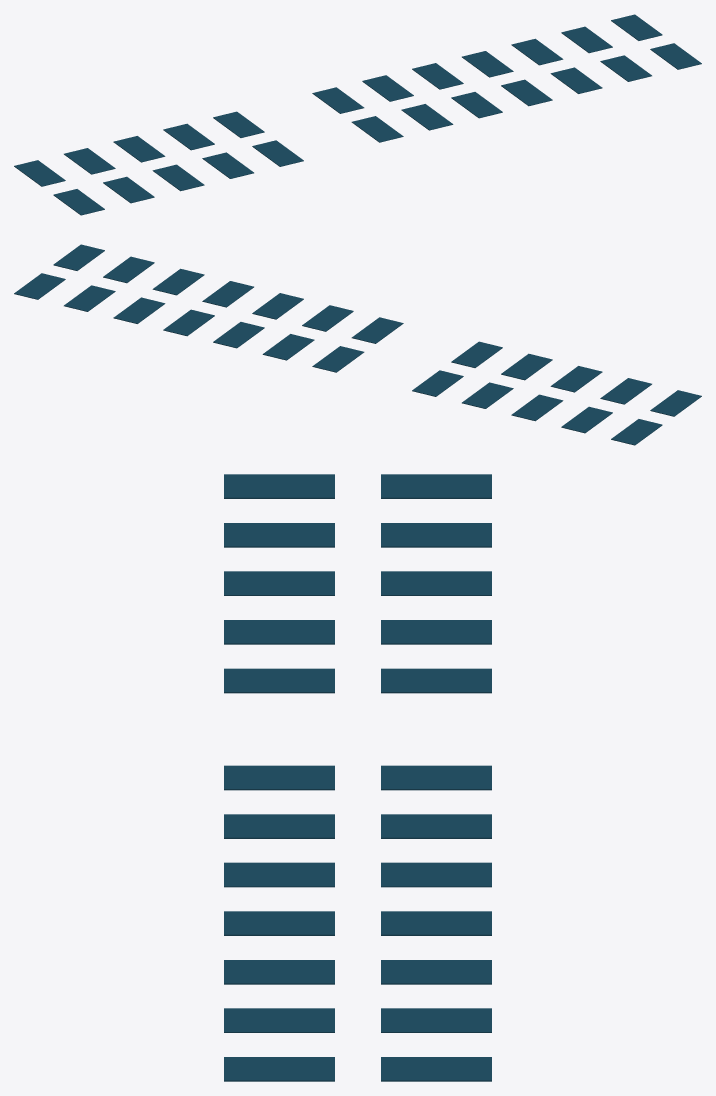
Rendered from glass.obj.
The picture shows the model from 3 angles, top to bottom: view 1: azimuth 30°, elevation 25°; view 2: azimuth 150°, elevation 25°; view 3: azimuth 270°, elevation 25°; orthographic projection. The views are drawn at different scales.
Visible parts, largest first — view 1: geometry; view 2: geometry; view 3: geometry.
Part boxes in pixels (x1,y1,x2,y2): geometry: (14,14,701,215); geometry: (14,244,701,445); geometry: (224,474,491,1081).
Size of the model in its own units: 37.45 by 0.035 by 7.
